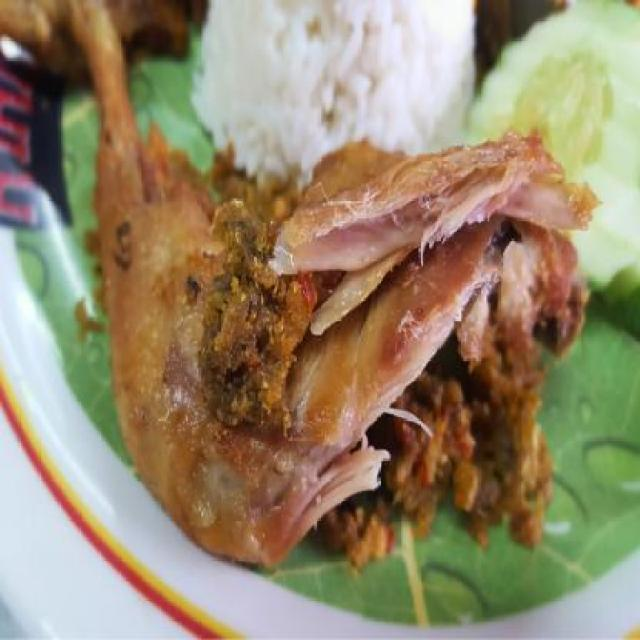Wet Waste: (0, 0, 602, 571), (200, 0, 477, 175)
